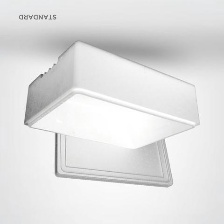foam_box: (18, 37, 207, 193)
